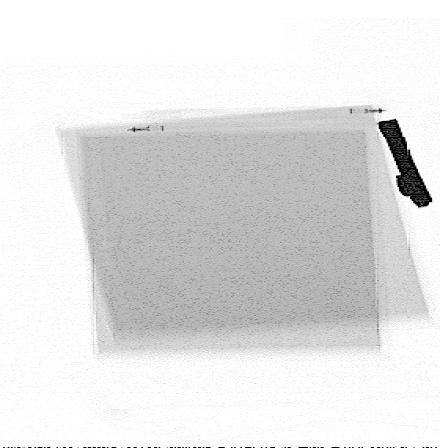Gun: (377, 119, 434, 208)
